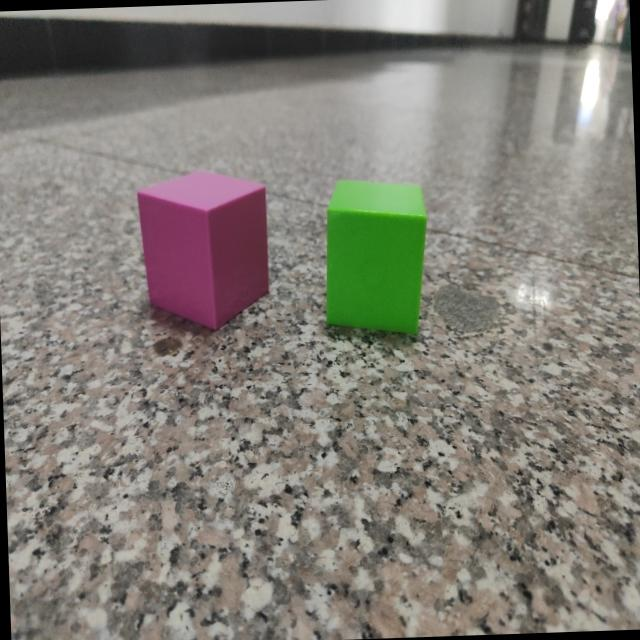green: (324, 181, 427, 339)
pink: (136, 171, 271, 332)
